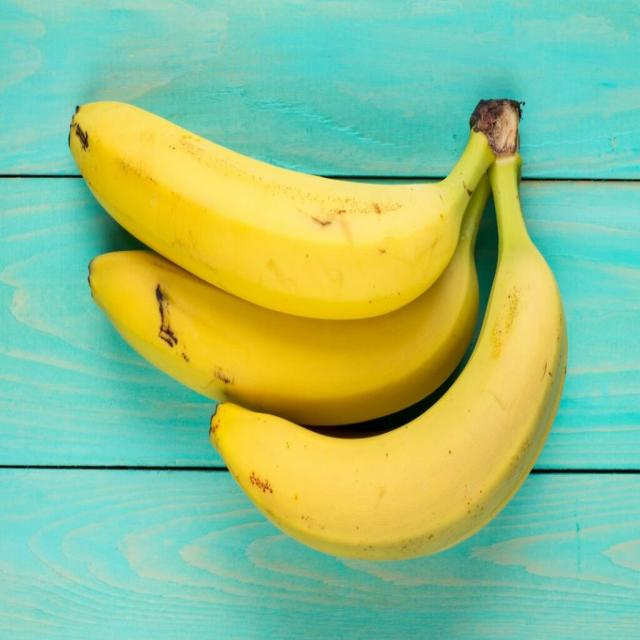banana: (208, 94, 578, 567), (56, 95, 492, 314), (84, 246, 514, 435)
